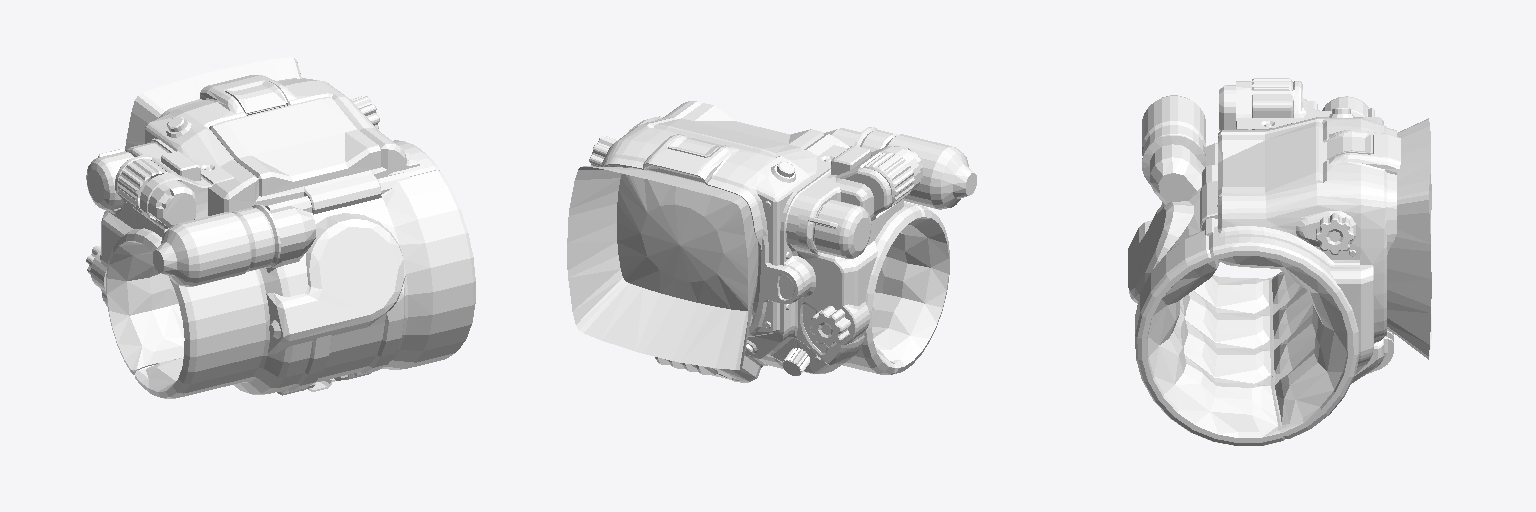
File: Pipbou.obj
3 views of the same model, side by side, from view 1: azimuth 30°, elevation 25°; view 2: azimuth 150°, elevation 25°; view 3: azimuth 270°, elevation 25° (orthographic).
Visible parts, largest first — view 1: PipboyBack_mesh:1, PipboyBody_mesh:0, TapeDeckLid_mesh:1, PipboyBody_mesh:4, PipboyPlug_mesh:1, ScreenGlowEffect01:0, PipboyPlug_mesh:6, ModeKnob_mesh:6, PipboyBody_mesh:6, PipboyBody_mesh:1, EjectButton_mesh:5, ScrollKnob_mesh:1 (+2 smaller); view 2: ScreenGlowEffect01:0, PipboyBody_mesh:0, PipboyBack_mesh:4, TapeDeckLid_mesh:1, PipboyPlug_mesh:1, ModeKnob_mesh:6, PipboyBody_mesh:1, ScrollKnob_mesh:1, TuneKnob_mesh:6, PipboyBack_mesh:1, EjectButton_mesh:5, SelectButton_mesh:1 (+3 smaller); view 3: PipboyBody_mesh:0, PipboyBack_mesh:4, PipboyBack_mesh:1, PipboyBody_mesh:4, ScreenGlowEffect01:0, TapeDeckLid_mesh:1, PipboyBody_mesh:1, PipboyPlug_mesh:1, PipboyPlug_mesh:6, AdjustKnob_mesh:6, SelectButton_mesh:1, EjectButton_mesh:5 (+3 smaller).
Boxes of the visible parts, <box> form: PipboyBack_mesh:1: <box>135,170,475,398</box>; PipboyBody_mesh:0: <box>90,75,419,306</box>; TapeDeckLid_mesh:1: <box>209,97,380,196</box>; PipboyBody_mesh:4: <box>107,241,184,371</box>; PipboyPlug_mesh:1: <box>153,212,251,286</box>; ScreenGlowEffect01:0: <box>125,57,301,150</box>; PipboyPlug_mesh:6: <box>232,204,280,271</box>; ModeKnob_mesh:6: <box>86,149,133,210</box>; PipboyBody_mesh:6: <box>148,180,195,227</box>; PipboyBody_mesh:1: <box>106,140,439,374</box>; EjectButton_mesh:5: <box>225,80,287,112</box>; ScrollKnob_mesh:1: <box>118,158,167,214</box>; ScreenGlowEffect01:0: <box>567,166,757,369</box>; PipboyBody_mesh:0: <box>601,101,920,382</box>; PipboyBack_mesh:4: <box>872,217,948,367</box>; TapeDeckLid_mesh:1: <box>654,103,823,157</box>; PipboyPlug_mesh:1: <box>885,134,976,209</box>; ModeKnob_mesh:6: <box>808,200,871,258</box>; PipboyBody_mesh:1: <box>629,117,921,374</box>; ScrollKnob_mesh:1: <box>864,152,914,208</box>; TuneKnob_mesh:6: <box>810,306,850,347</box>; PipboyBack_mesh:1: <box>659,116,949,374</box>; EjectButton_mesh:5: <box>668,135,725,157</box>; SelectButton_mesh:1: <box>831,146,870,174</box>; PipboyBody_mesh:0: <box>1200,81,1400,383</box>; PipboyBack_mesh:4: <box>1147,228,1282,437</box>; PipboyBack_mesh:1: <box>1128,143,1285,445</box>; PipboyBody_mesh:4: <box>1218,256,1347,432</box>; ScreenGlowEffect01:0: <box>1387,118,1431,359</box>; TapeDeckLid_mesh:1: <box>1218,122,1326,198</box>; PipboyBody_mesh:1: <box>1209,226,1359,438</box>; PipboyPlug_mesh:1: <box>1142,95,1205,155</box>; PipboyPlug_mesh:6: <box>1142,125,1205,184</box>; AdjustKnob_mesh:6: <box>1316,213,1353,254</box>; SelectButton_mesh:1: <box>1252,94,1292,117</box>; EjectButton_mesh:5: <box>1327,131,1372,159</box>.
Bounding box in the file's own units: 12.85 × 10.71 × 11.22.